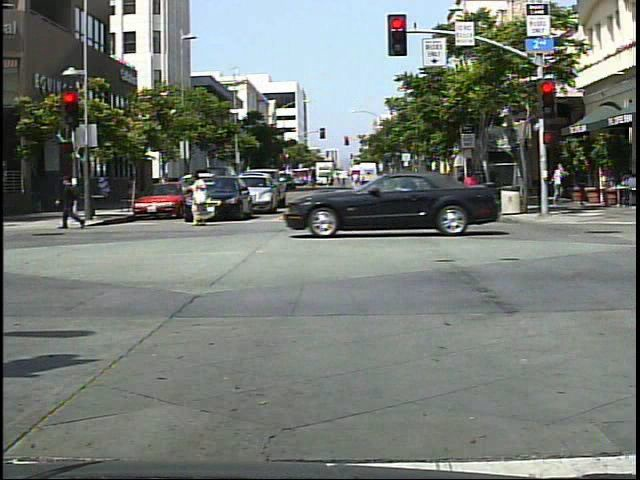person: (56, 169, 90, 235), (185, 169, 218, 230), (455, 166, 487, 225), (549, 160, 571, 207)
